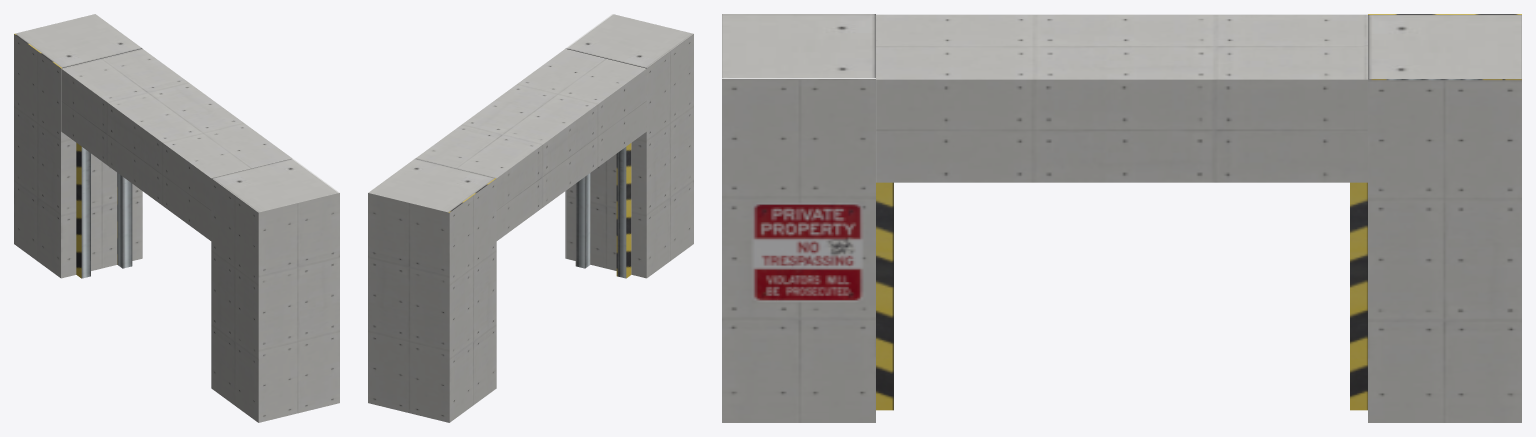
Rendered from gate.obj.
3 views of the same model, side by side, from view 1: azimuth 30°, elevation 25°; view 2: azimuth 150°, elevation 25°; view 3: azimuth 270°, elevation 25° (orthographic). The views are drawn at different scales.
Parts seen in each view (by area): view 1: Cube.001_Cube.009; view 2: Cube.001_Cube.009; view 3: Cube.001_Cube.009.
Part boxes in pixels (bbox=[...]): Cube.001_Cube.009: bbox=[14, 14, 339, 422]; Cube.001_Cube.009: bbox=[368, 14, 693, 422]; Cube.001_Cube.009: bbox=[722, 14, 1521, 422].
Bounding box in the file's own units: 3.98 × 9.81 × 20.67.
